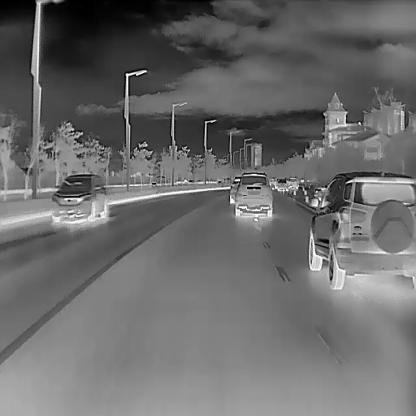car: (308, 170, 415, 289), (50, 173, 108, 223), (235, 171, 272, 217), (229, 175, 242, 202), (276, 177, 288, 189), (288, 176, 298, 188)
